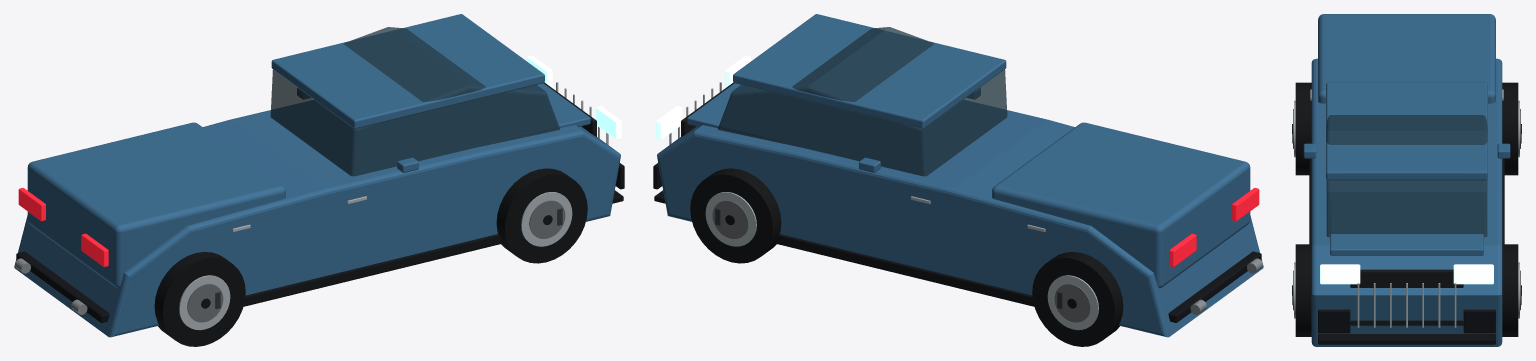
The model's file is chevy_colorado_zr2.glb.
3 renders of one model, left to right at view 1: azimuth 30°, elevation 25°; view 2: azimuth 150°, elevation 25°; view 3: azimuth 270°, elevation 25°, orthographic. The views are drawn at different scales.
Parts seen in each view (by area): view 1: sculpted_body, pickup_bed, cab, cab_roof, hood_center, rear_right_wheel_tire, front_right_wheel_tire, side_skirt_1, rear_diffuser, rear_right_wheel_rim, front_right_wheel_rim, rear_right_wheel_disc (+4 smaller); view 2: sculpted_body, pickup_bed, cab, cab_roof, hood_center, rear_left_wheel_tire, front_left_wheel_tire, side_skirt_-1, rear_diffuser, rear_left_wheel_rim, front_left_wheel_rim, rear_left_wheel_disc (+4 smaller); view 3: cab_roof, sculpted_body, cab, pickup_bed, hood_center, front_grille, front_splitter, front_left_wheel_tire, front_right_wheel_tire, rear_left_wheel_tire, rear_right_wheel_tire, headlight_left (+7 smaller).
Part boxes in pixels (bbox=[...]): sculpted_body: bbox=[14, 100, 620, 337]; pickup_bed: bbox=[27, 122, 285, 287]; cab: bbox=[270, 27, 559, 176]; cab_roof: bbox=[271, 14, 544, 128]; hood_center: bbox=[399, 83, 590, 151]; rear_right_wheel_tire: bbox=[154, 252, 245, 346]; front_right_wheel_tire: bbox=[496, 168, 587, 263]; side_skirt_1: bbox=[243, 234, 502, 306]; rear_diffuser: bbox=[16, 251, 109, 322]; rear_right_wheel_rim: bbox=[179, 275, 230, 330]; front_right_wheel_rim: bbox=[521, 192, 572, 246]; rear_right_wheel_disc: bbox=[187, 284, 223, 322]; sculpted_body: bbox=[657, 100, 1263, 337]; pickup_bed: bbox=[992, 122, 1250, 287]; cab: bbox=[718, 27, 1007, 176]; cab_roof: bbox=[733, 14, 1006, 128]; hood_center: bbox=[687, 83, 878, 151]; rear_left_wheel_tire: bbox=[1032, 252, 1123, 346]; front_left_wheel_tire: bbox=[690, 168, 781, 263]; side_skirt_-1: bbox=[775, 234, 1034, 306]; rear_diffuser: bbox=[1168, 251, 1261, 322]; rear_left_wheel_rim: bbox=[1047, 275, 1098, 330]; front_left_wheel_rim: bbox=[705, 192, 756, 246]; rear_left_wheel_disc: bbox=[1054, 284, 1090, 322]; cab_roof: bbox=[1326, 82, 1487, 180]; sculpted_body: bbox=[1311, 58, 1502, 346]; cab: bbox=[1326, 115, 1487, 237]; pickup_bed: bbox=[1318, 14, 1495, 103]; hood_center: bbox=[1330, 181, 1483, 255]; front_grille: bbox=[1350, 269, 1463, 325]; front_splitter: bbox=[1318, 334, 1495, 344]; front_left_wheel_tire: bbox=[1502, 244, 1518, 336]; front_right_wheel_tire: bbox=[1295, 244, 1311, 336]; rear_left_wheel_tire: bbox=[1502, 82, 1518, 175]; rear_right_wheel_tire: bbox=[1295, 82, 1311, 175]; headlight_left: bbox=[1453, 264, 1493, 284].
Bounding box in the file's own units: 6.08 × 1.94 × 2.33.
